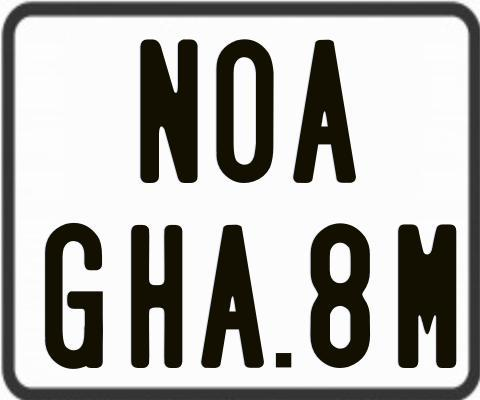0: (214, 39, 275, 187)
8: (307, 222, 368, 368)
A: (292, 37, 358, 182), (198, 224, 264, 369)
G: (42, 223, 105, 369)
H: (129, 222, 184, 366)
M: (397, 224, 459, 372)
N: (138, 38, 202, 183)
